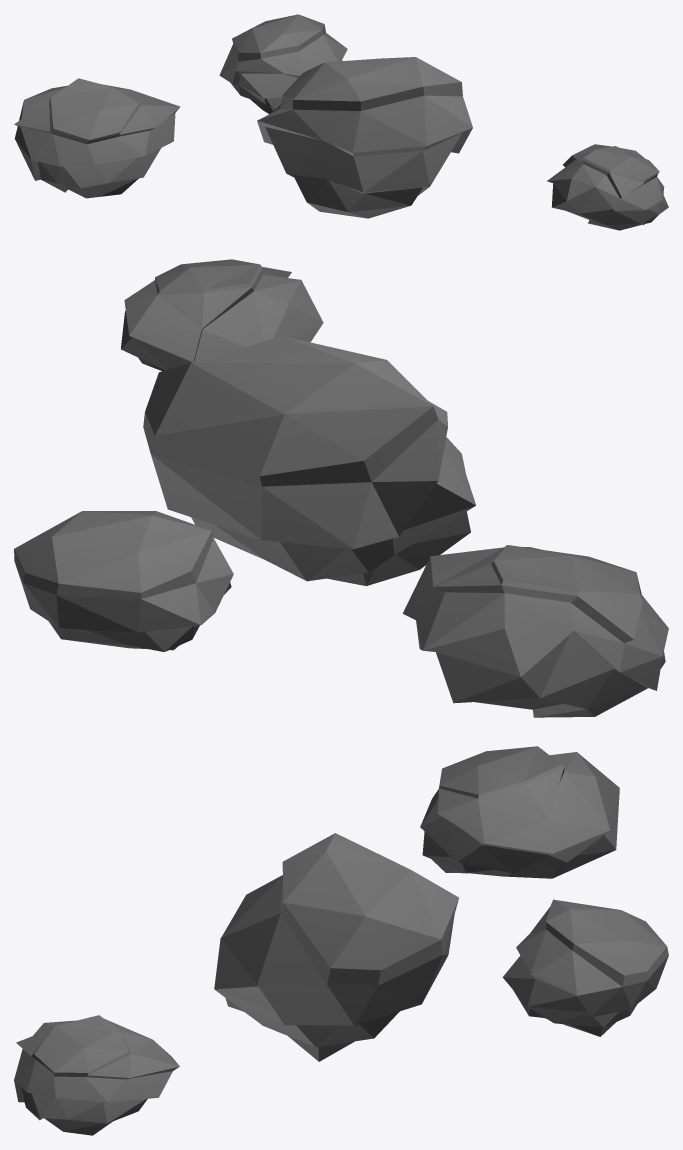
File: SM_ROCK2.fbx
3 views of the same model, one above another, from view 1: azimuth 30°, elevation 25°; view 2: azimuth 150°, elevation 25°; view 3: azimuth 270°, elevation 25° (orthographic). The views are drawn at different scales.
Visible parts, largest first — view 1: ROCK2; view 2: ROCK2; view 3: ROCK2.
Part boxes in pixels (bbox=[...]): ROCK2: bbox=[14, 14, 668, 230]; ROCK2: bbox=[14, 259, 668, 717]; ROCK2: bbox=[14, 746, 668, 1135].
Size of the model in its own units: 76.44 by 19.84 by 70.1.
Materials: 1 (1 with a texture image).
